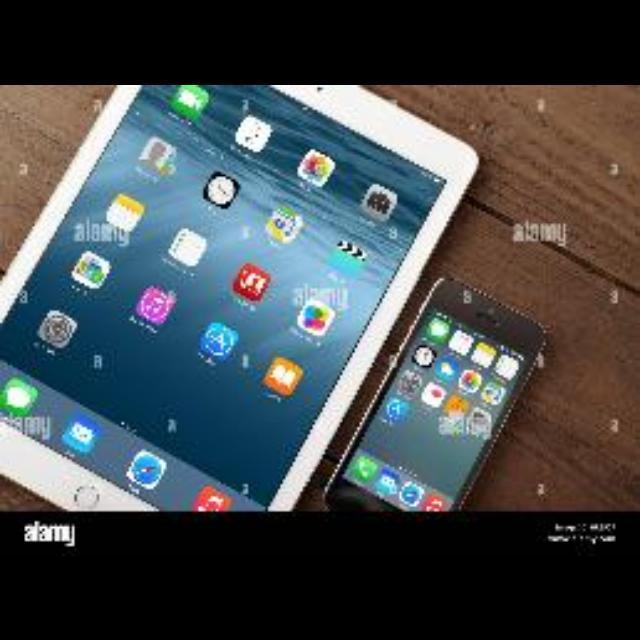Phone: (322, 272, 546, 526)
